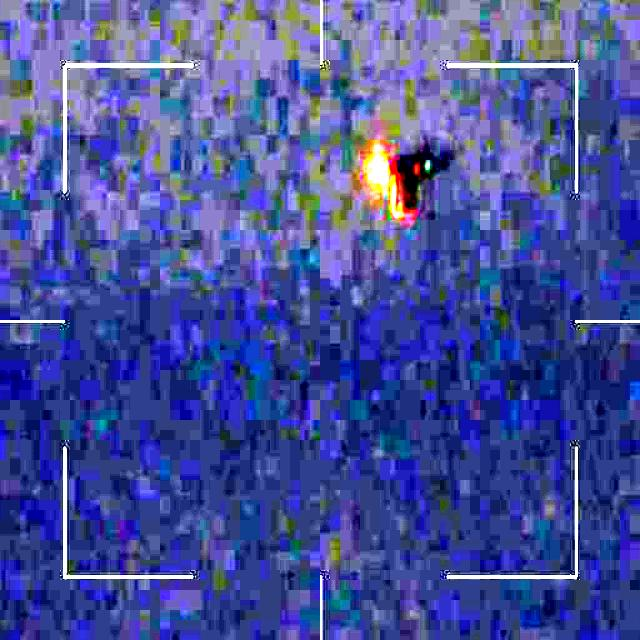bird: (365, 142, 458, 230)
